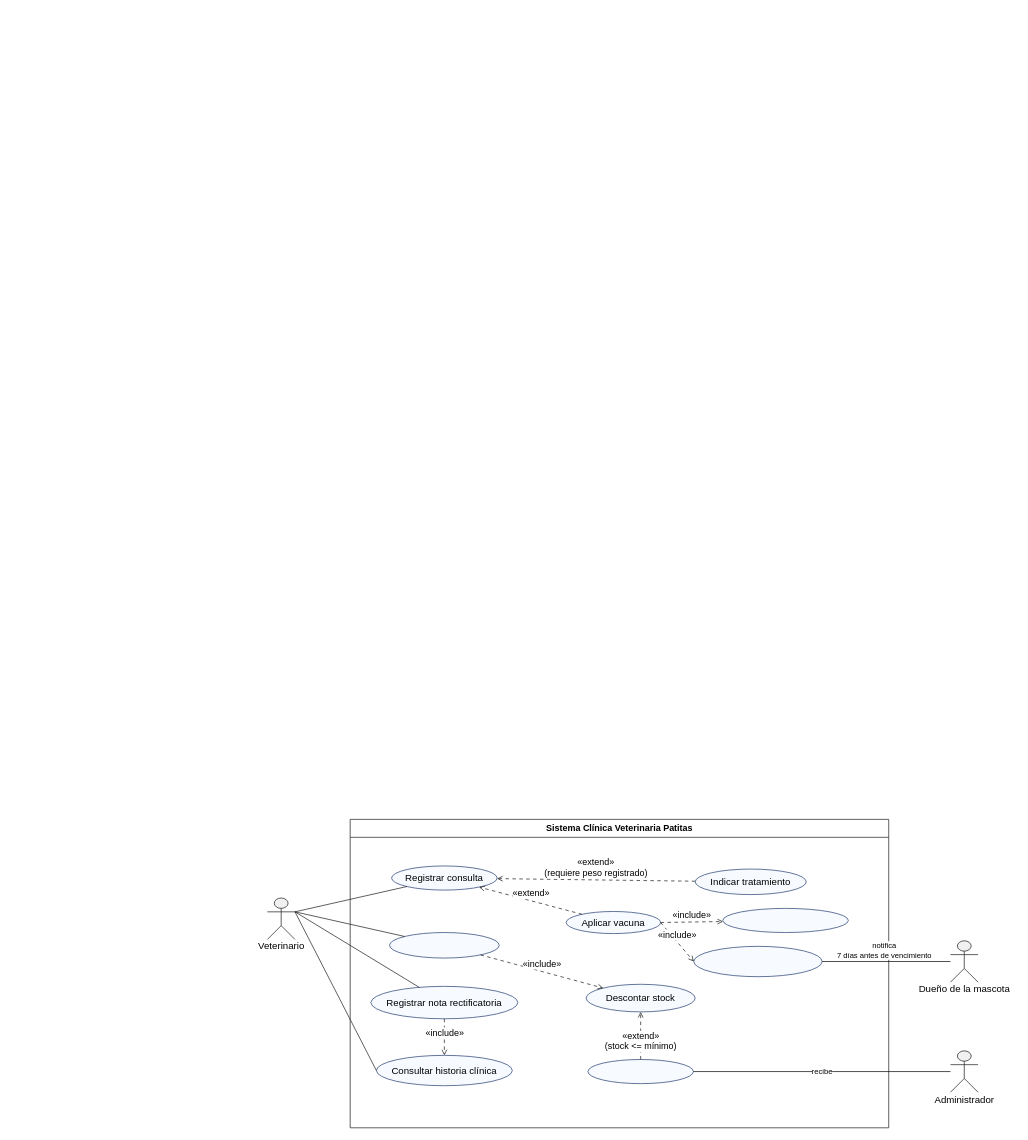
Image size: 1028x1140. Some labels were removed from this diagram. The centre of each missing label's shape, as x and y in pixels:
Alertar stock bajo: (x=640, y=1071)
calcular próximo refuerzo: (x=757, y=961)
Confirmar consulta: (x=444, y=945)
Validar edad mínima: (x=785, y=920)
